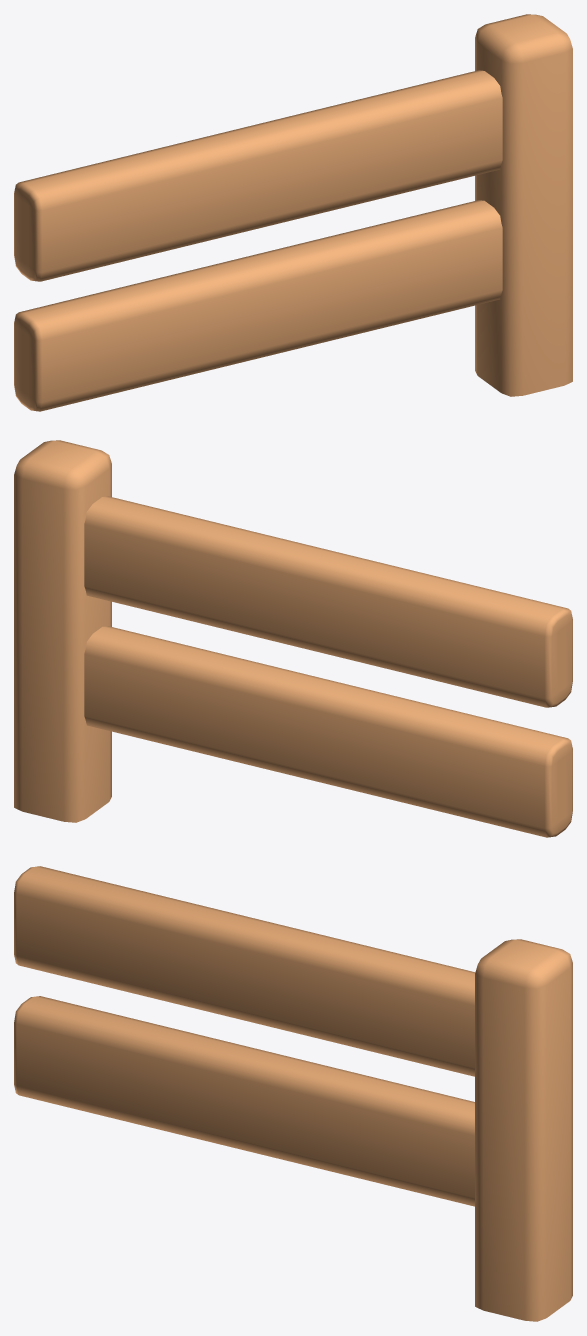
The model's file is Wooden_Fence_02.fbx.
The picture shows the model from 3 angles, top to bottom: view 1: azimuth 30°, elevation 25°; view 2: azimuth 150°, elevation 25°; view 3: azimuth 330°, elevation 25°; orthographic projection.
Visible parts, largest first — view 1: Wooden_Fence_02; view 2: Wooden_Fence_02; view 3: Wooden_Fence_02.
Boxes of the visible parts, x1,y1,x2,y2 form: Wooden_Fence_02: [14, 14, 572, 411]; Wooden_Fence_02: [14, 440, 572, 837]; Wooden_Fence_02: [14, 866, 572, 1321].
Size of the model in its own units: 1412 by 878 by 183.
